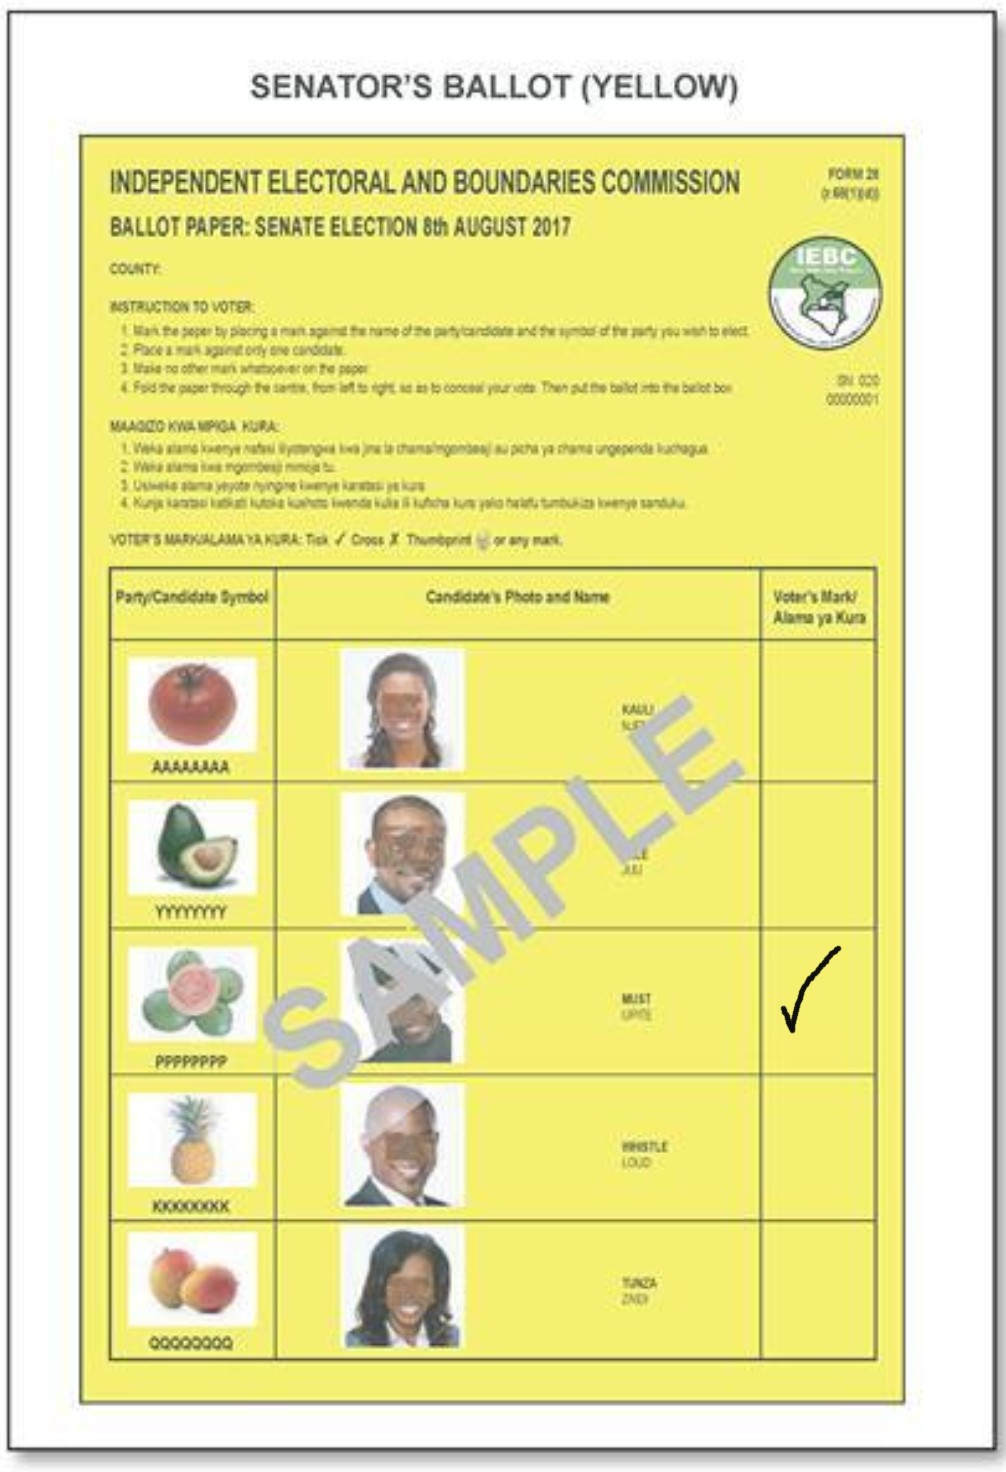mark: (769, 937, 849, 1047)
